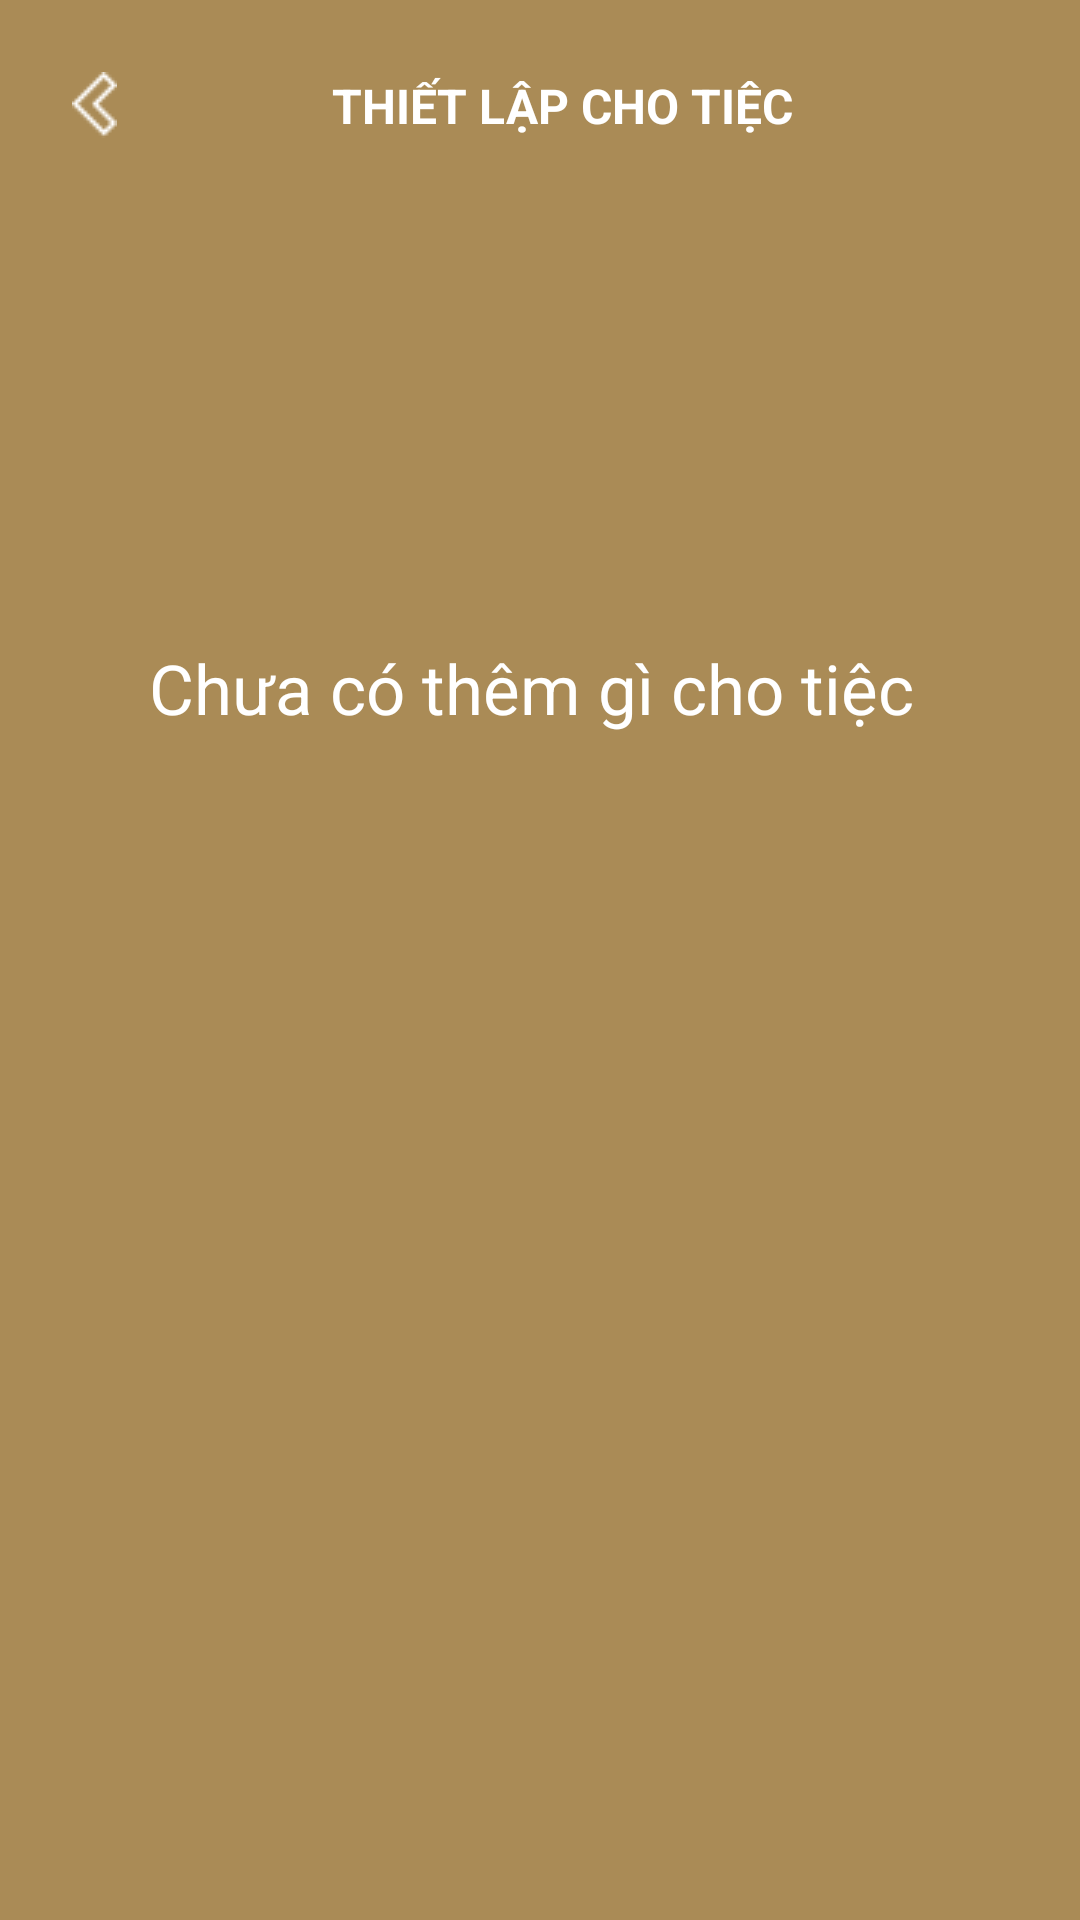

Icon bounding boxes for this 1080px x 1920px phone screenshot, format (x1, y1, x2, y2):
back: (72, 72, 117, 136)
